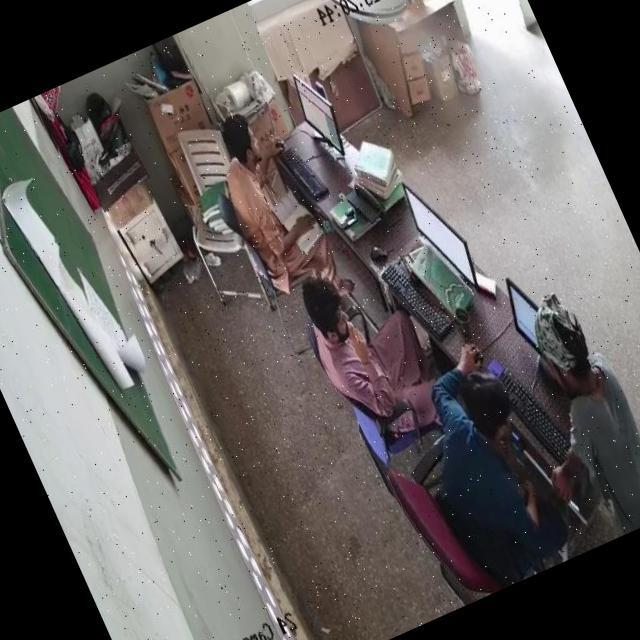person: (394, 342, 562, 564), (519, 287, 640, 535), (294, 244, 428, 408), (206, 98, 320, 276)
